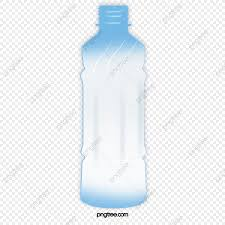available: (73, 3, 152, 210)
